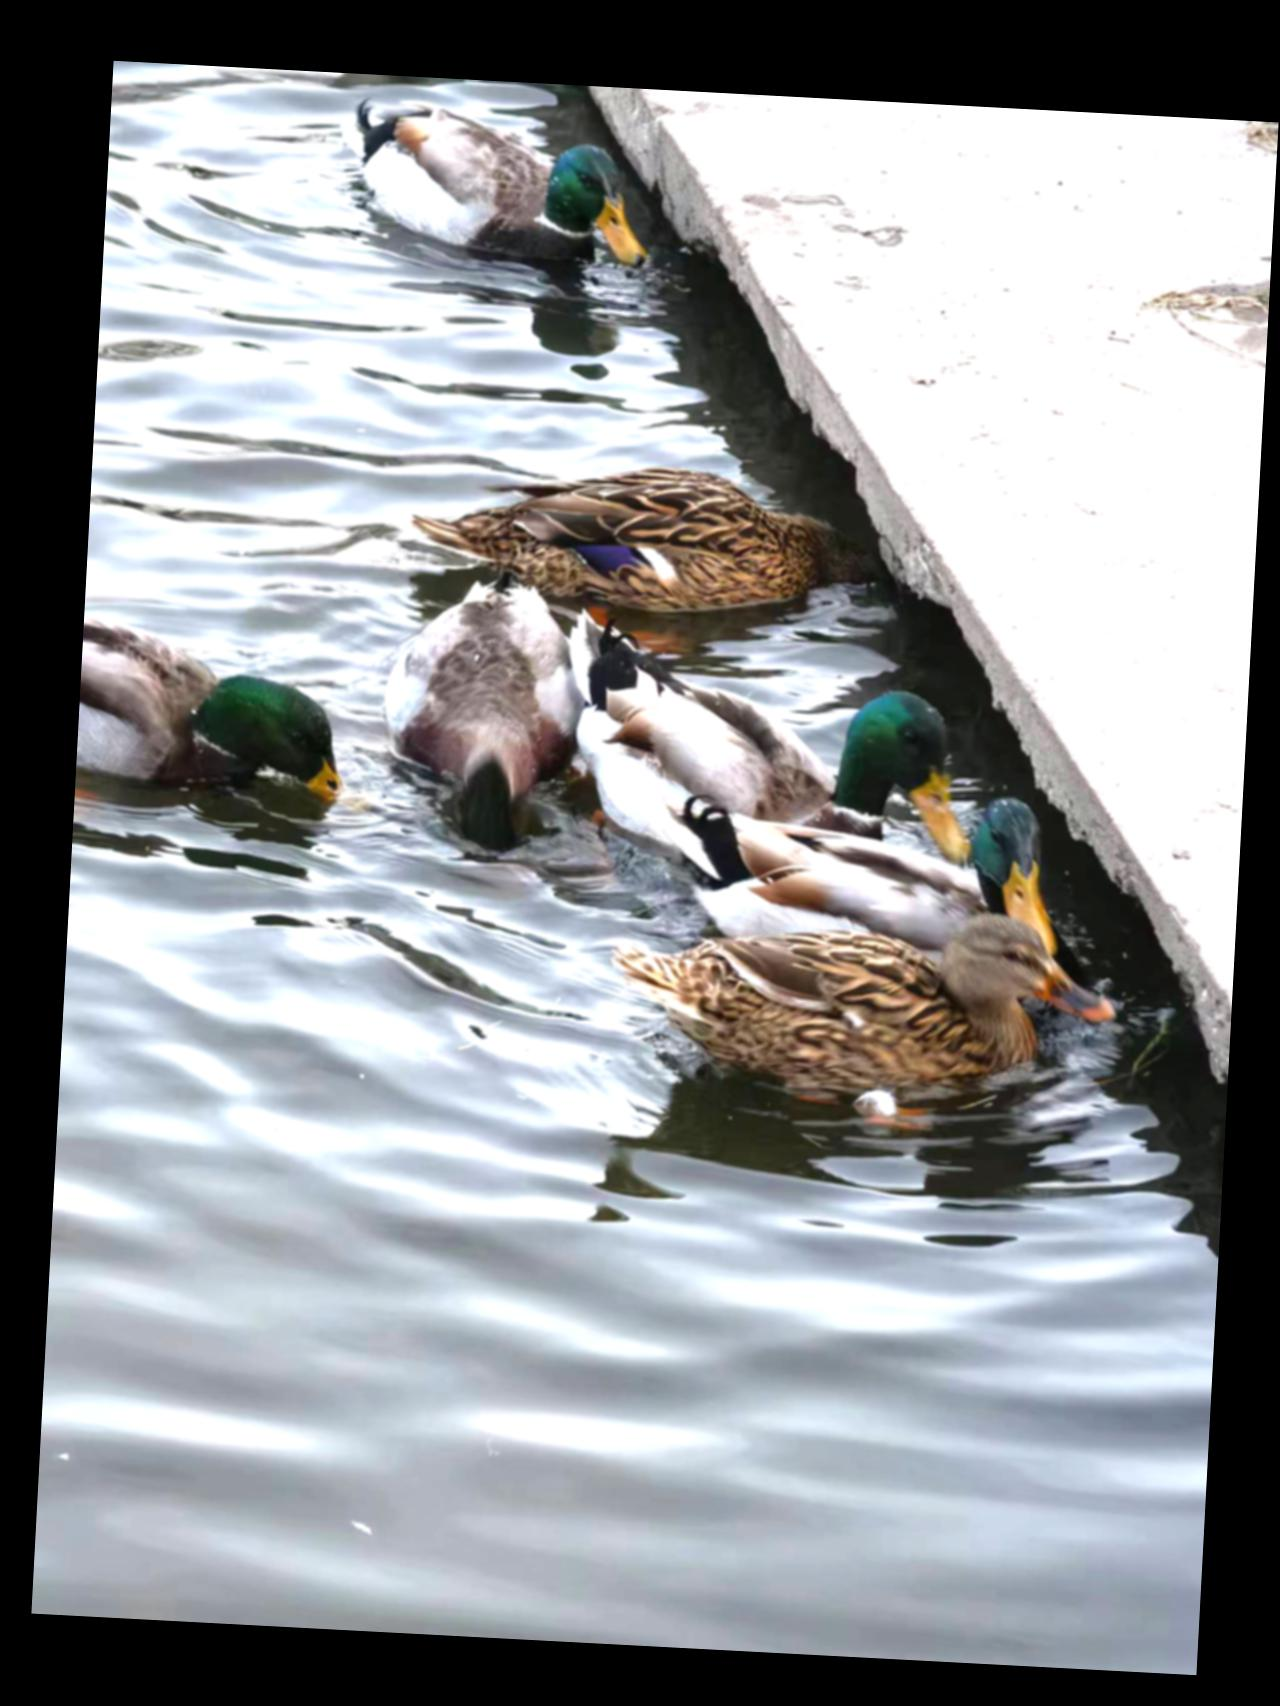duck: (531, 639, 968, 883), (598, 895, 1105, 1101), (354, 436, 886, 620), (641, 762, 1076, 980), (304, 86, 676, 319), (73, 610, 376, 807), (368, 569, 592, 835)
